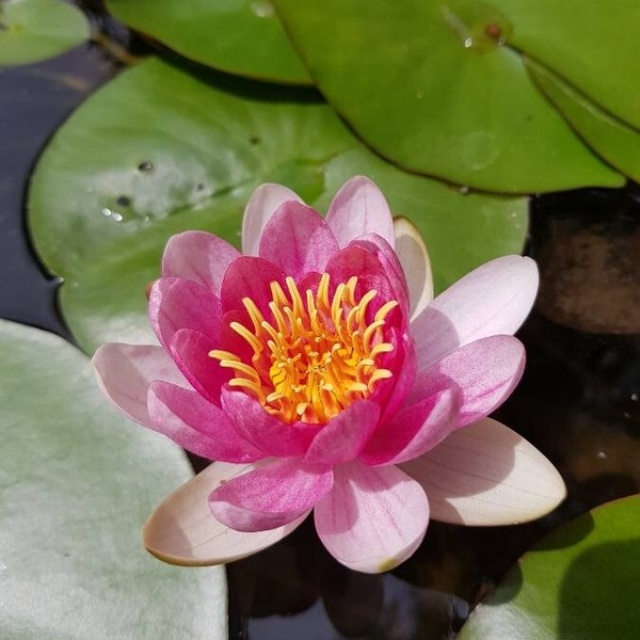obstacle: (92, 151, 573, 589)
